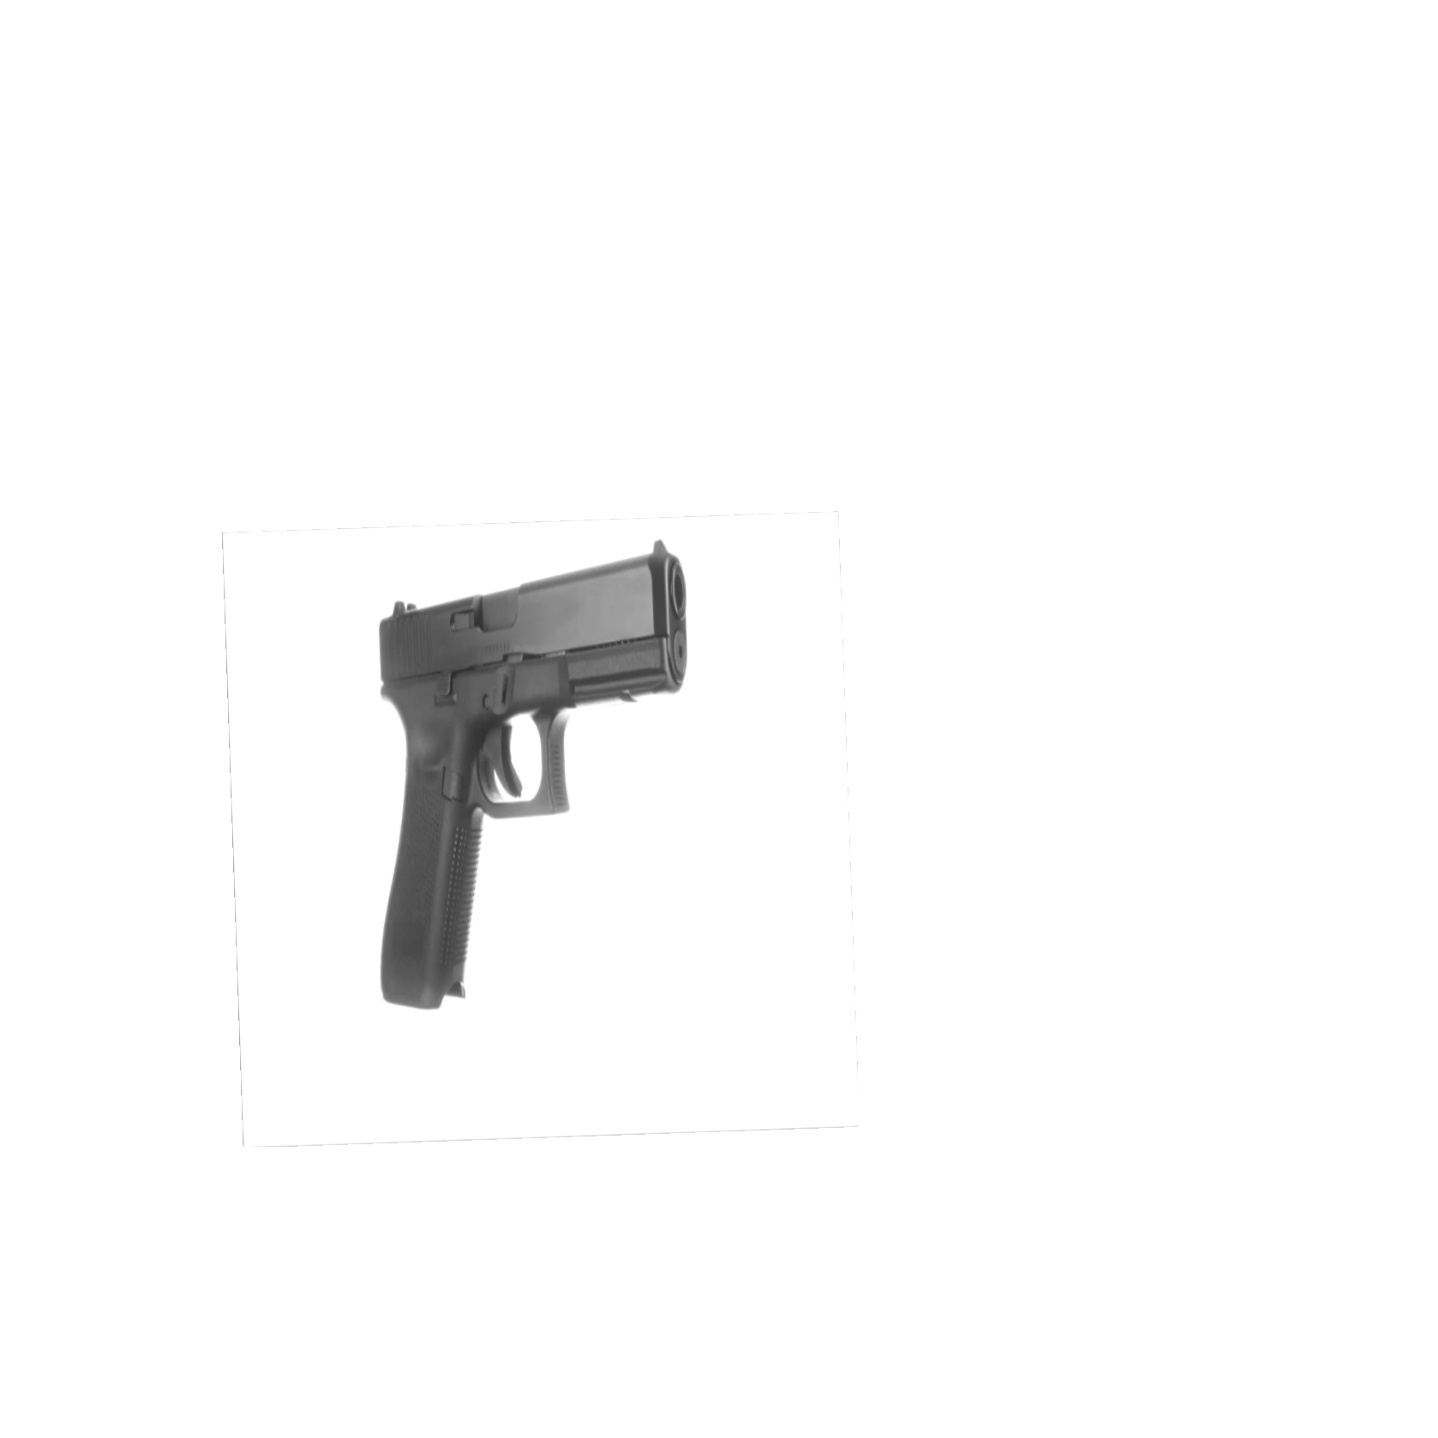gun: (349, 535, 691, 1007)
